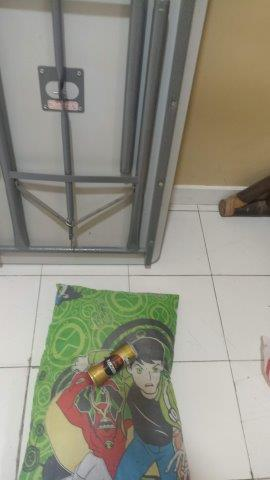kaleng: (87, 345, 139, 384)
